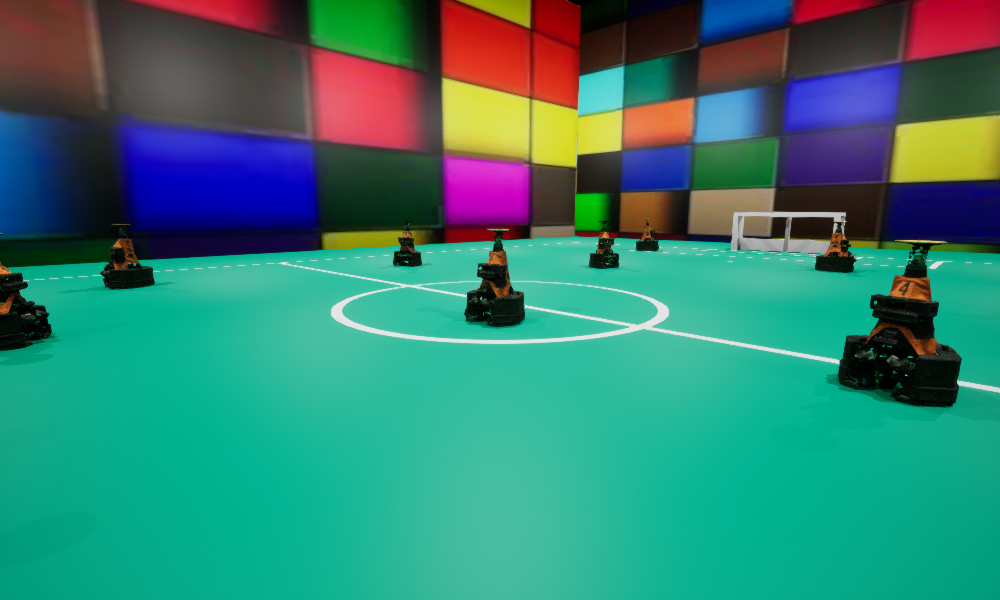o: (838, 240, 961, 405), (0, 233, 51, 350), (464, 229, 524, 325), (100, 224, 154, 288), (815, 221, 856, 272), (589, 221, 618, 268), (393, 220, 421, 265), (636, 218, 658, 250)
